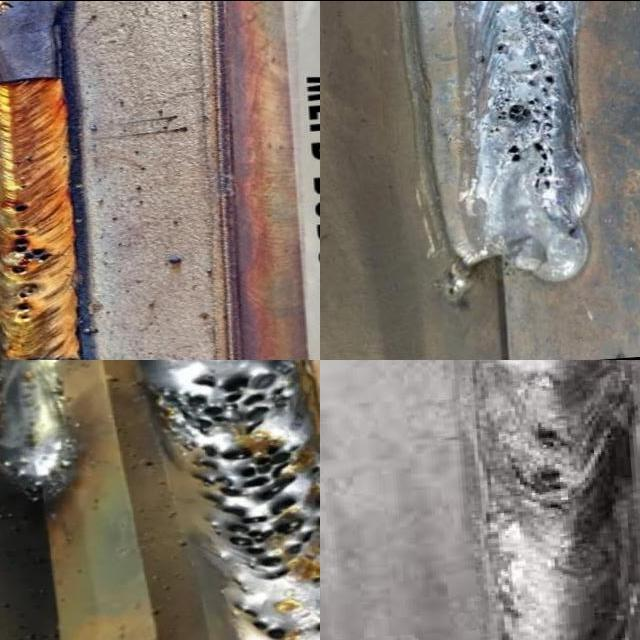defect: (140, 359, 320, 583), (486, 59, 566, 198), (226, 595, 294, 640), (5, 224, 59, 276), (517, 468, 572, 518), (516, 424, 571, 460), (522, 0, 568, 34), (14, 283, 39, 323), (489, 37, 514, 57), (10, 155, 33, 167), (11, 201, 34, 213), (305, 620, 320, 634), (14, 183, 28, 192), (309, 574, 320, 583)
